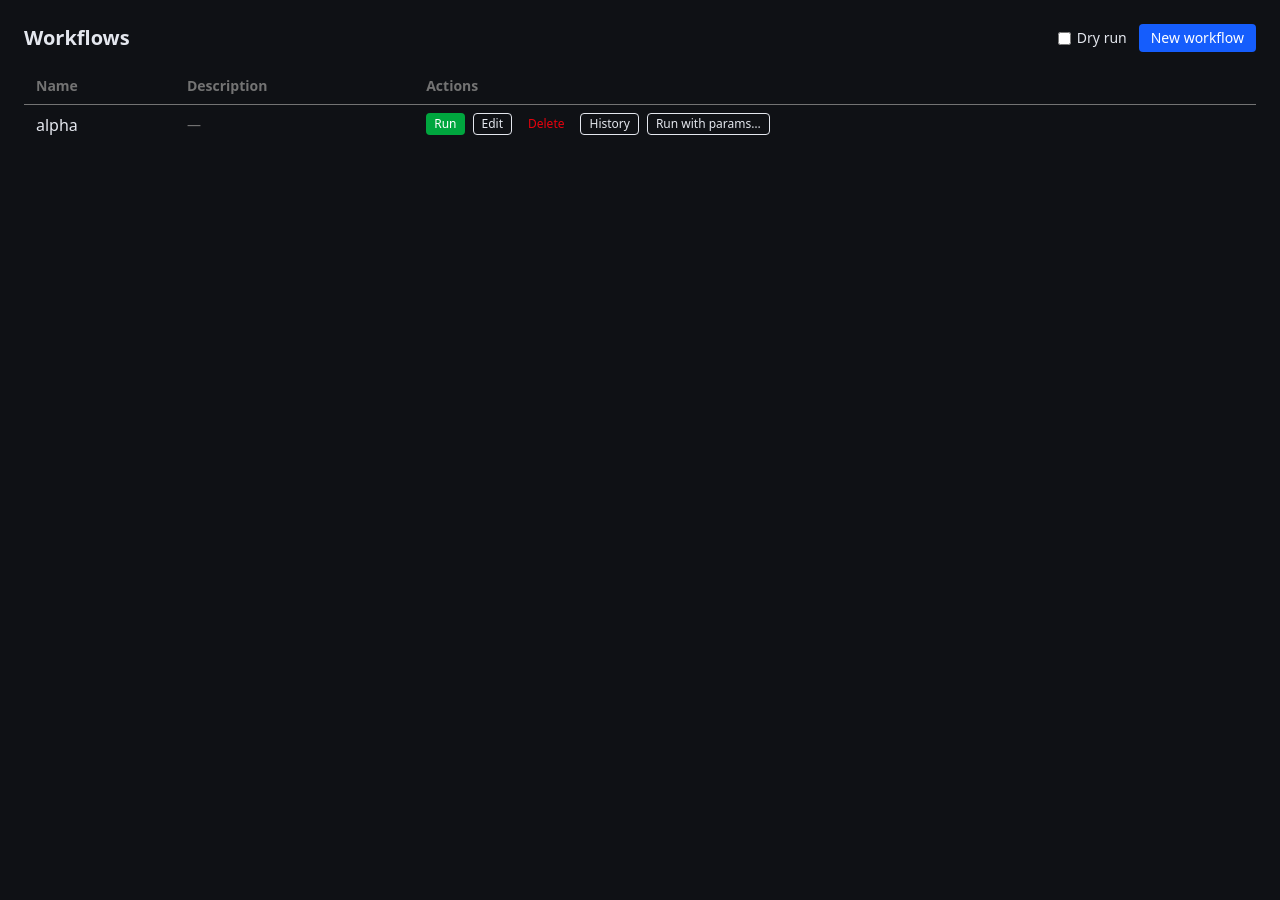
Test: Workflows page — run with params dialog › Run with params... rejects a top-level array as invalid (must be an object)
Expected: the text "alpha" is shown, 24,104 -> 175,145
Click the button with aria-label "run with params for alpha" at (708, 124), box 647,113 -> 770,135
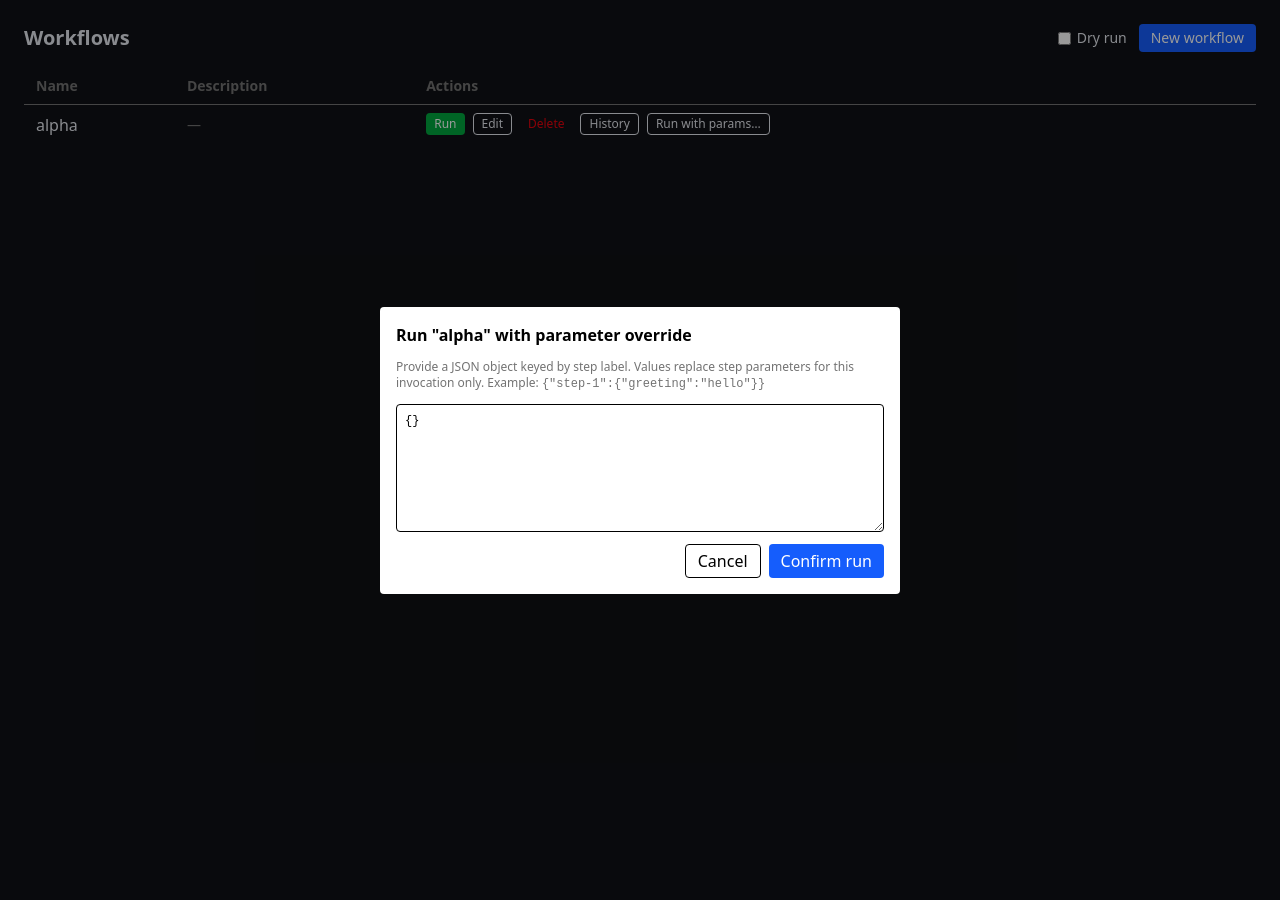
Replace the text in the text box named "params override json" with "[1,2,3]" at (640, 468), box 396,404 -> 884,532
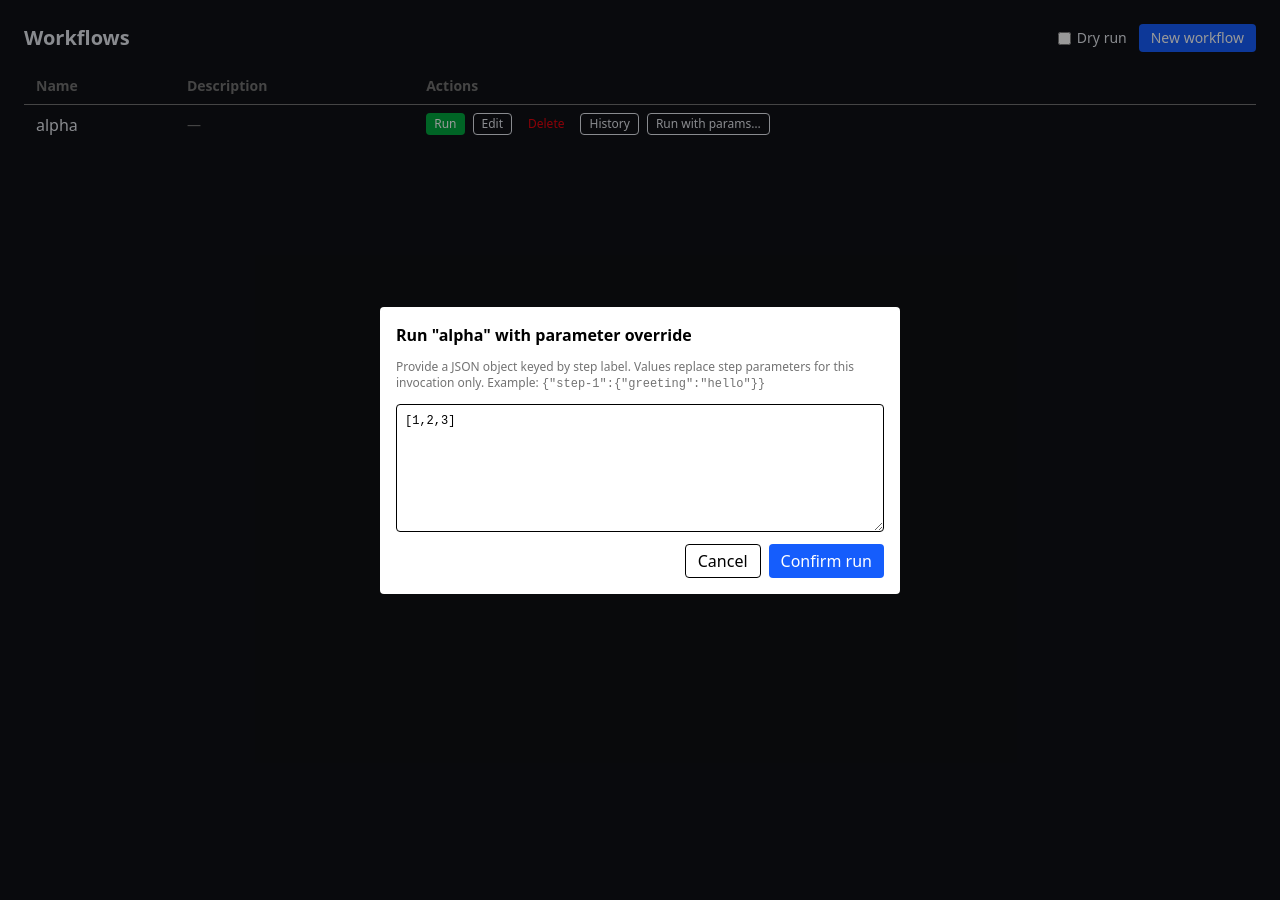
Click the button "Confirm run" at (826, 560), box 769,544 -> 884,578
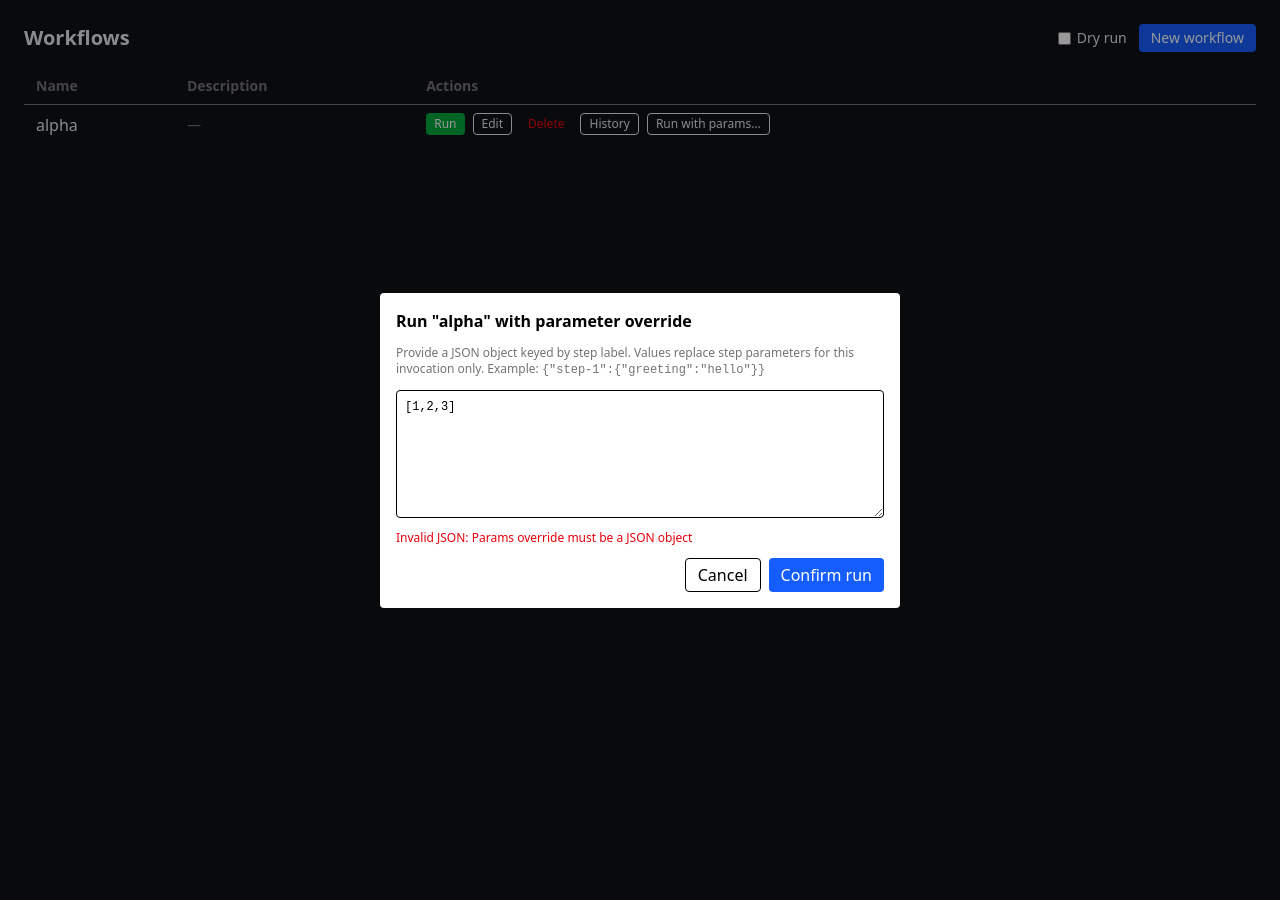
Now the text "Invalid JSON: Params override must be a JSON object" is shown, box 396,528 -> 692,546
